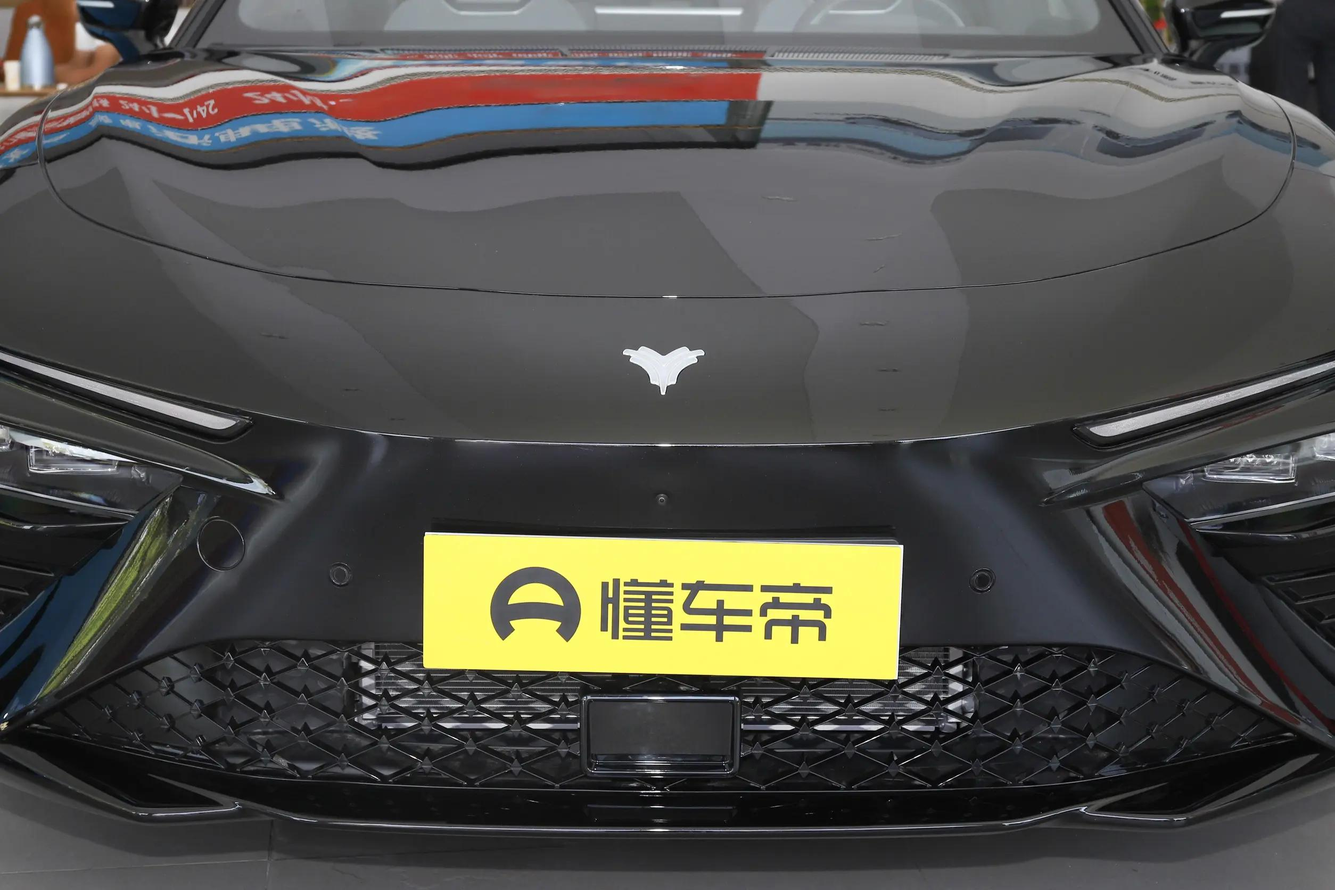NETA: (621, 345, 707, 397)
